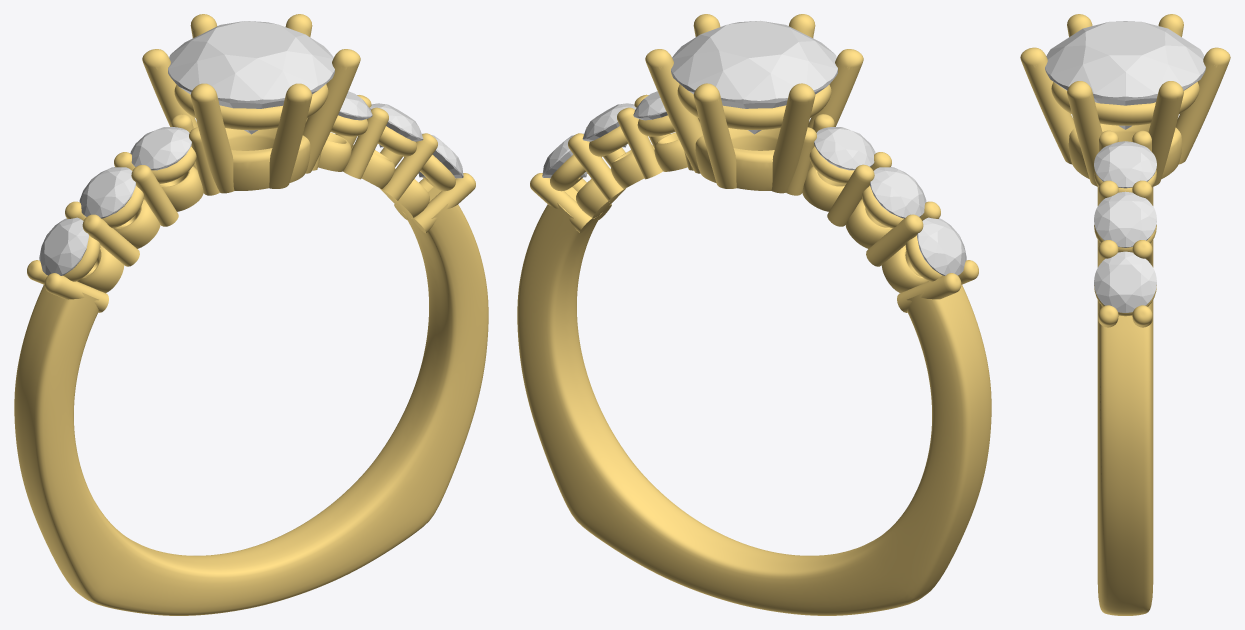
Rendered from diamond-round-yellowgold-6prong-europeanshank-3stone.glb.
The picture shows the model from 3 angles, left to right: view 1: azimuth 30°, elevation 25°; view 2: azimuth 150°, elevation 25°; view 3: azimuth 270°, elevation 25°; orthographic projection. The views are drawn at different scales.
Visible parts, largest first — view 1: metal, stone, side.002, side.001, side, side.004, side.003, side.005; view 2: metal, stone, side.002, side.001, side, side.004, side.003, side.005; view 3: metal, stone, side.005, side.004, side.003.
Part boxes in pixels (x1,y1,x2,y2): metal: [14, 14, 488, 615]; stone: [168, 21, 334, 134]; side.002: [39, 217, 88, 275]; side.001: [79, 167, 135, 218]; side: [130, 127, 191, 170]; side.004: [369, 103, 423, 147]; side.003: [338, 91, 372, 120]; side.005: [418, 133, 463, 178]; metal: [517, 14, 991, 615]; stone: [671, 20, 837, 134]; side.002: [917, 217, 966, 275]; side.001: [870, 167, 926, 218]; side: [814, 127, 875, 170]; side.004: [582, 103, 636, 147]; side.003: [633, 91, 667, 120]; side.005: [542, 133, 587, 177]; metal: [1020, 14, 1230, 615]; stone: [1045, 21, 1205, 129]; side.005: [1094, 251, 1156, 312]; side.004: [1094, 191, 1156, 247]; side.003: [1094, 141, 1156, 188].
Bounding box in the file's own units: 20.11 × 23.61 × 8.35.
